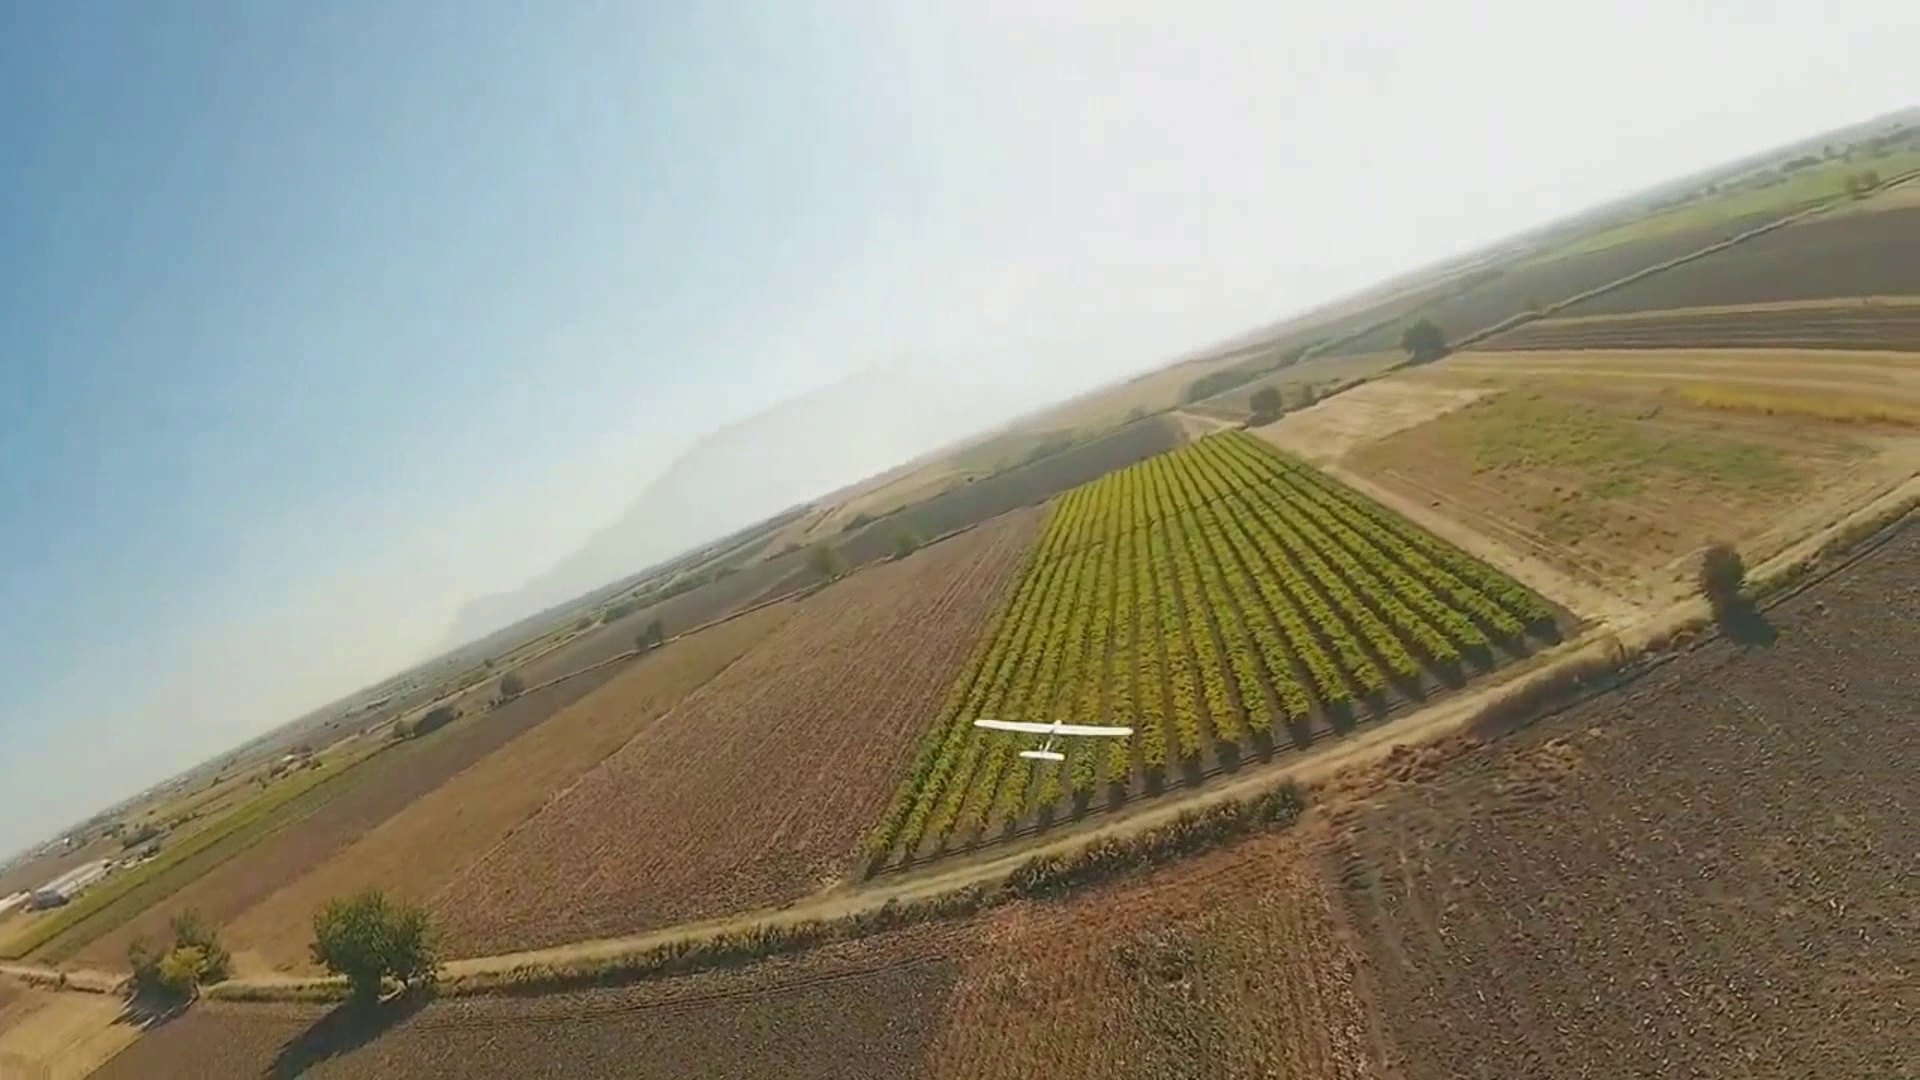airplane: (24, 91, 1916, 920)
